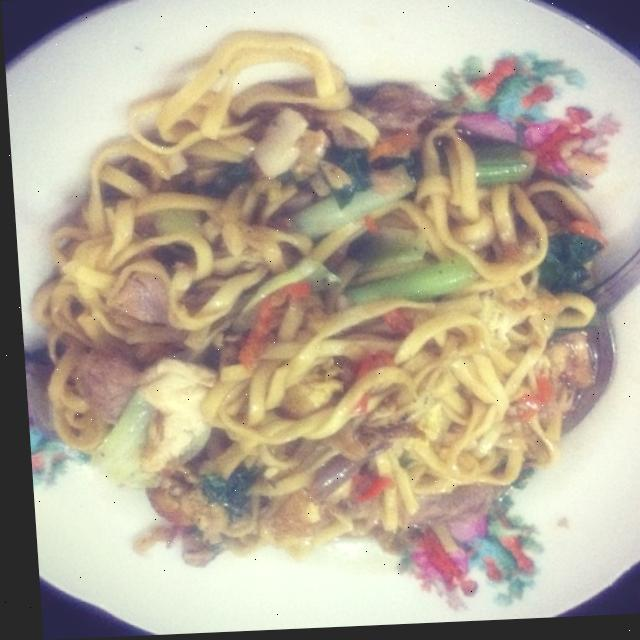面条主食: (17, 3, 640, 639)
